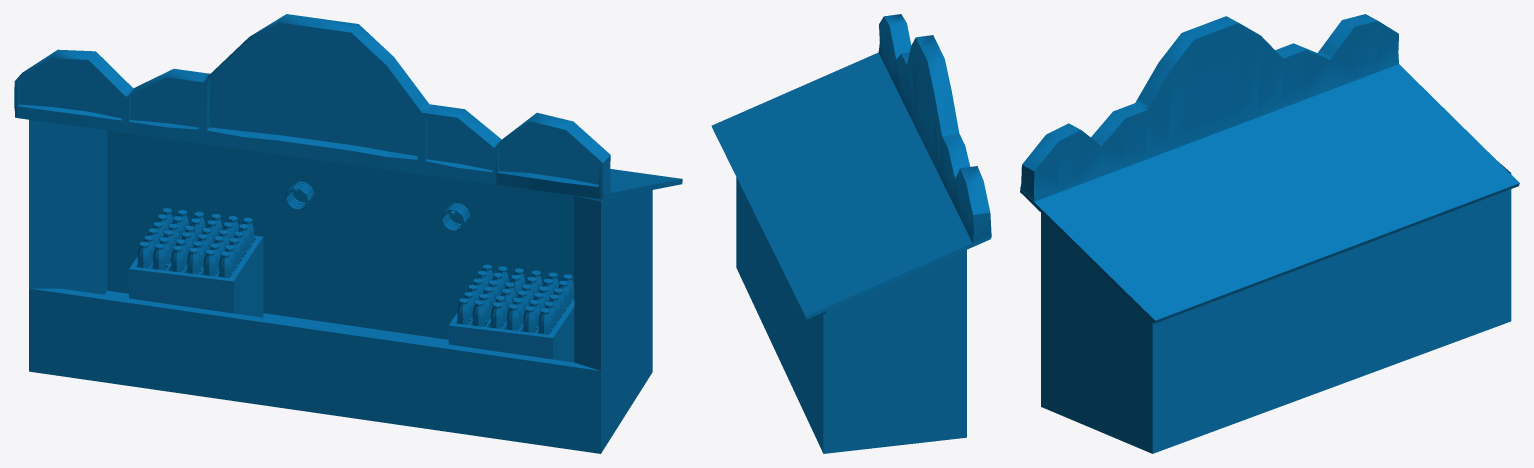
Rendered from RingTossGame.fbx.
The picture shows the model from 3 angles, left to right: view 1: azimuth 30°, elevation 25°; view 2: azimuth 150°, elevation 25°; view 3: azimuth 270°, elevation 25°; orthographic projection. The views are drawn at different scales.
Visible parts, largest first — view 1: Building, Roof, pCube20 (×2); view 2: Roof, Building; view 3: Roof, Building.
Boxes of the visible parts, <box> form: Building: <box>29,119,652,453</box>; Roof: <box>14,14,682,199</box>; pCube20 (×2): <box>129,235,574,362</box>; Roof: <box>711,14,991,319</box>; Building: <box>736,177,966,453</box>; Roof: <box>1020,14,1519,323</box>; Building: <box>1041,161,1511,453</box>.
Bounding box in the file's own units: 7.65 × 5.53 × 8.03.
